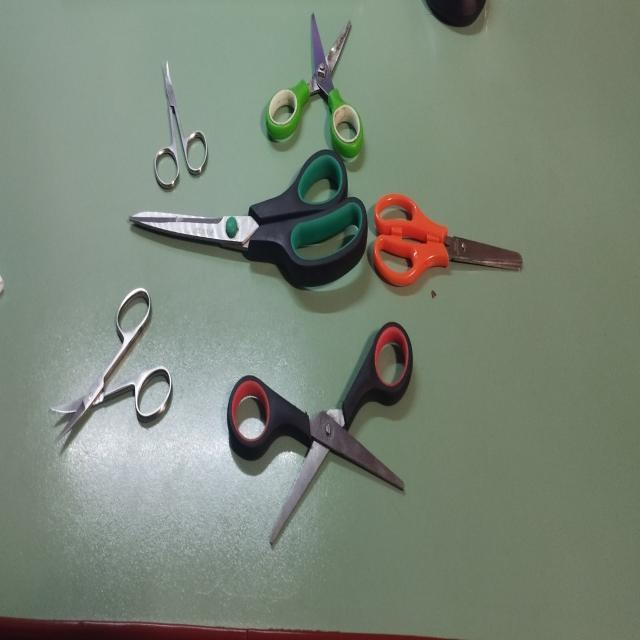tesoura: (225, 316, 418, 552), (121, 148, 372, 299), (48, 282, 174, 456), (372, 186, 524, 294), (264, 6, 366, 160), (152, 51, 210, 196)
